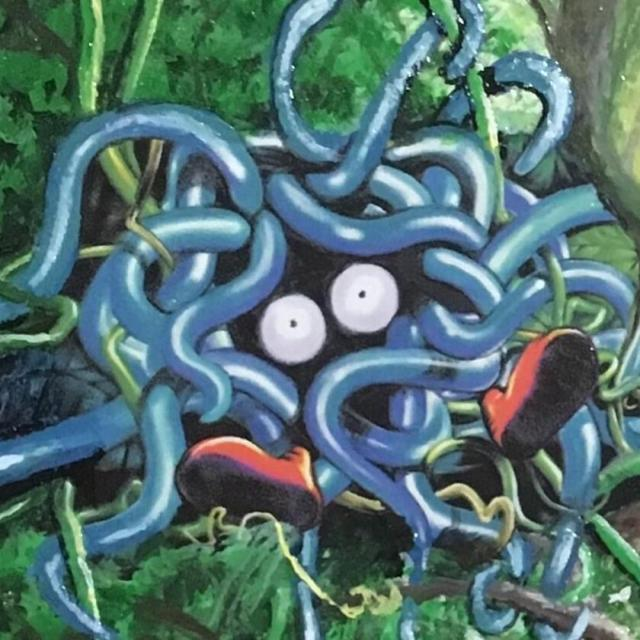Tangela: (94, 121, 602, 518)
